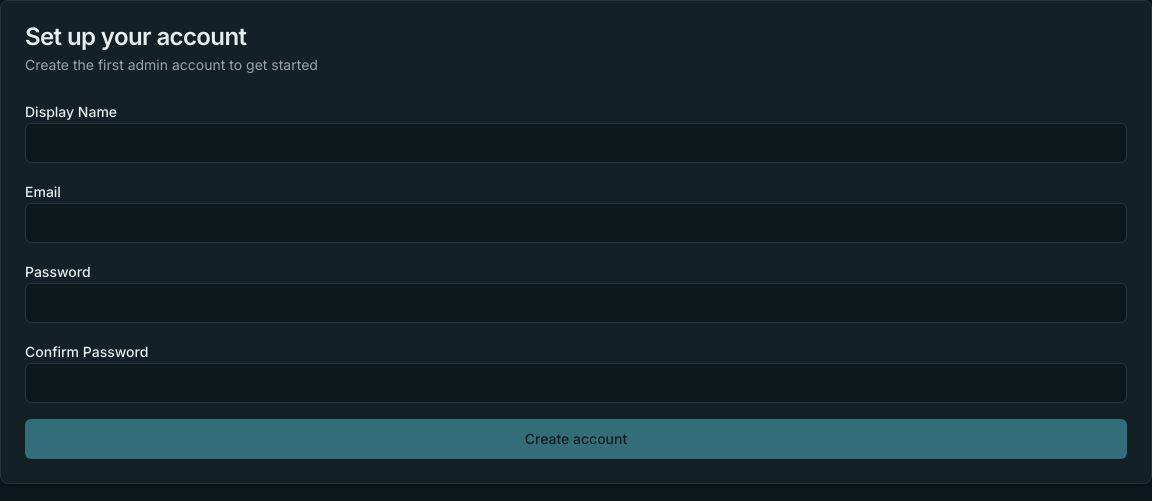
Test case: RegisterForm (first-run setup) › Create account button is disabled until the form is valid
Check: the button "Create account" is disabled, box x1=25 y1=419 x2=1127 y2=459
Type "Admin" into the field labelled "Display Name" at (576, 143), box x1=25 y1=123 x2=1127 y2=163
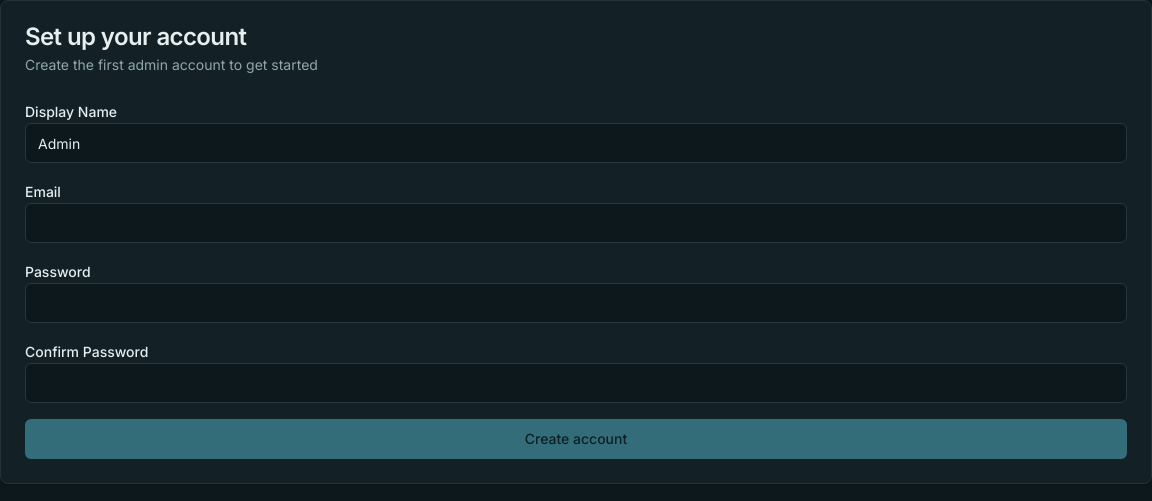
Type "admin@example.com" into the field labelled "Email" at (576, 223), box x1=25 y1=203 x2=1127 y2=243
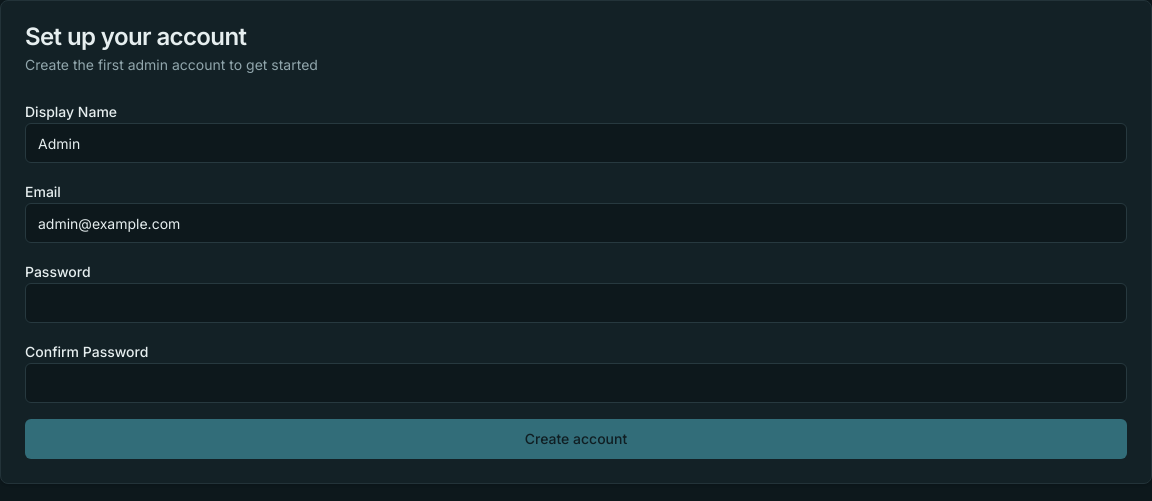
Type "SecurePass1!" into the password field labelled "Password" at (576, 303), box x1=25 y1=283 x2=1127 y2=323
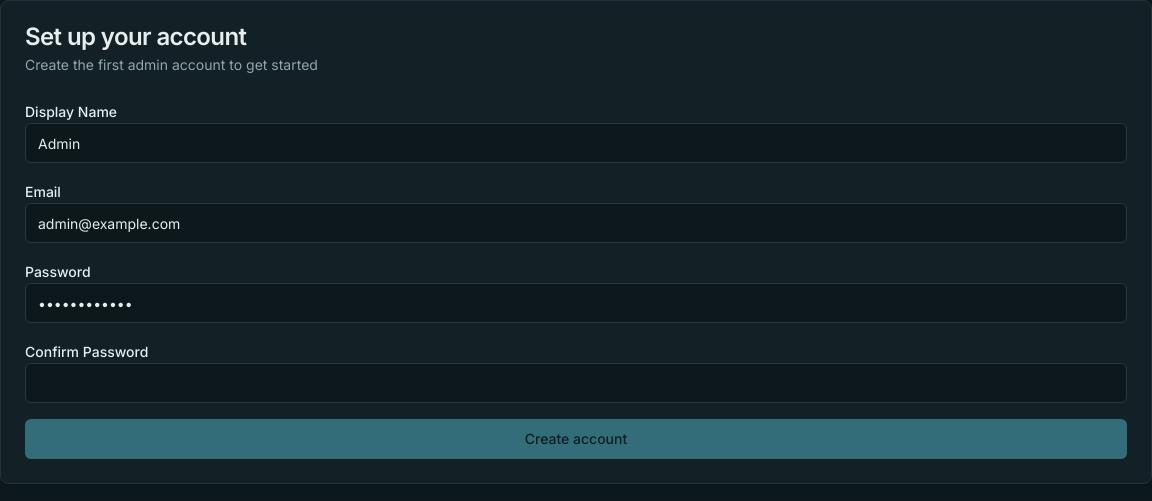
Type "SecurePass1!" into the password field labelled "Confirm Password" at (576, 383), box x1=25 y1=363 x2=1127 y2=403
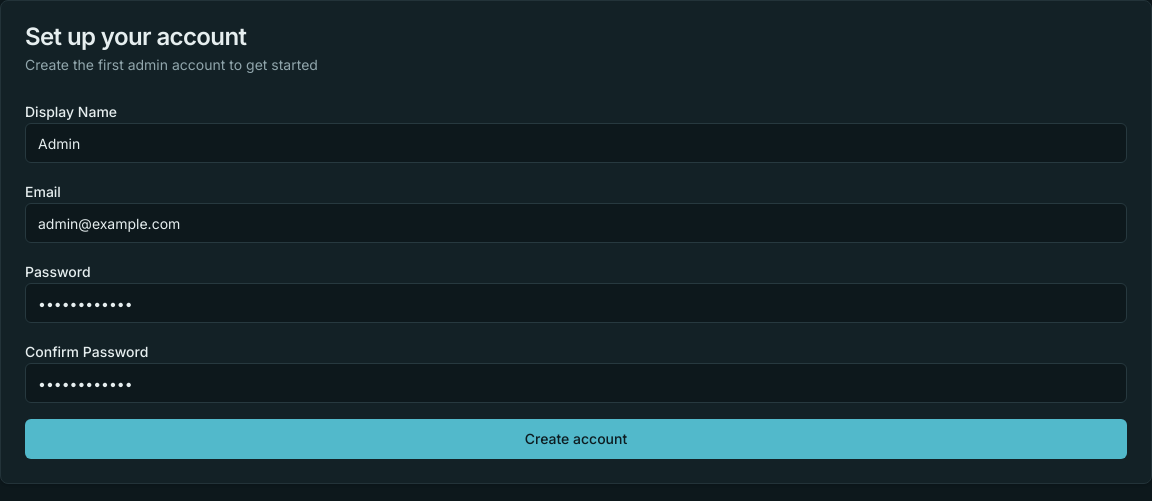
Check: the button "Create account" is enabled, box x1=25 y1=419 x2=1127 y2=459
